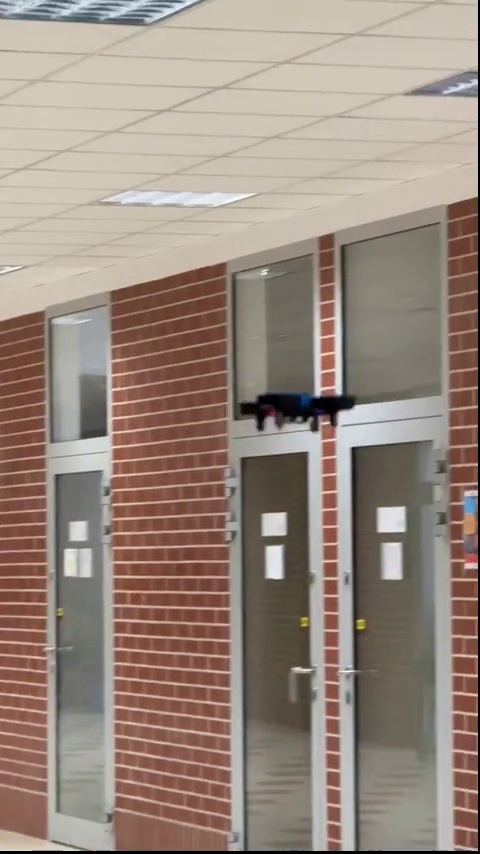drone: (234, 391, 358, 431)
